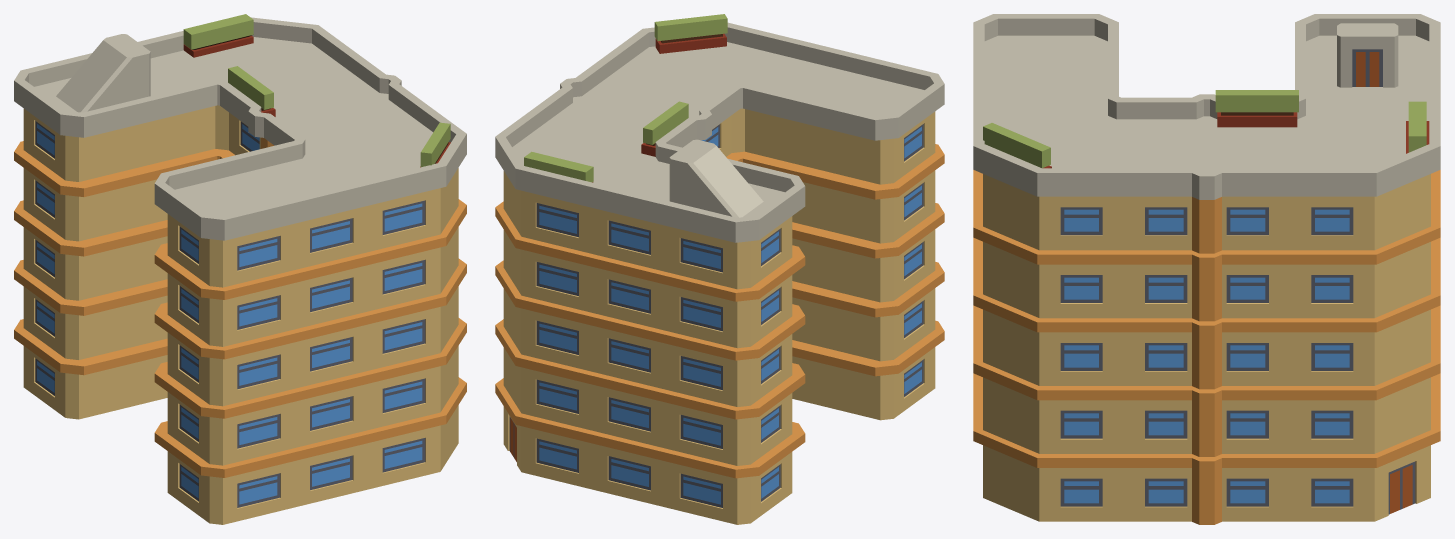
3 renders of one model, left to right at view 1: azimuth 30°, elevation 25°; view 2: azimuth 150°, elevation 25°; view 3: azimuth 270°, elevation 25°, orthographic. The views are drawn at different scales.
Parts seen in each view (by area): view 1: predio 3.002; view 2: predio 3.002; view 3: predio 3.002.
Boxes of the visible parts, bbox=[...] form: predio 3.002: bbox=[14, 14, 466, 524]; predio 3.002: bbox=[495, 14, 944, 524]; predio 3.002: bbox=[973, 14, 1440, 524].
Size of the model in its own units: 10225 by 11368 by 12437.
